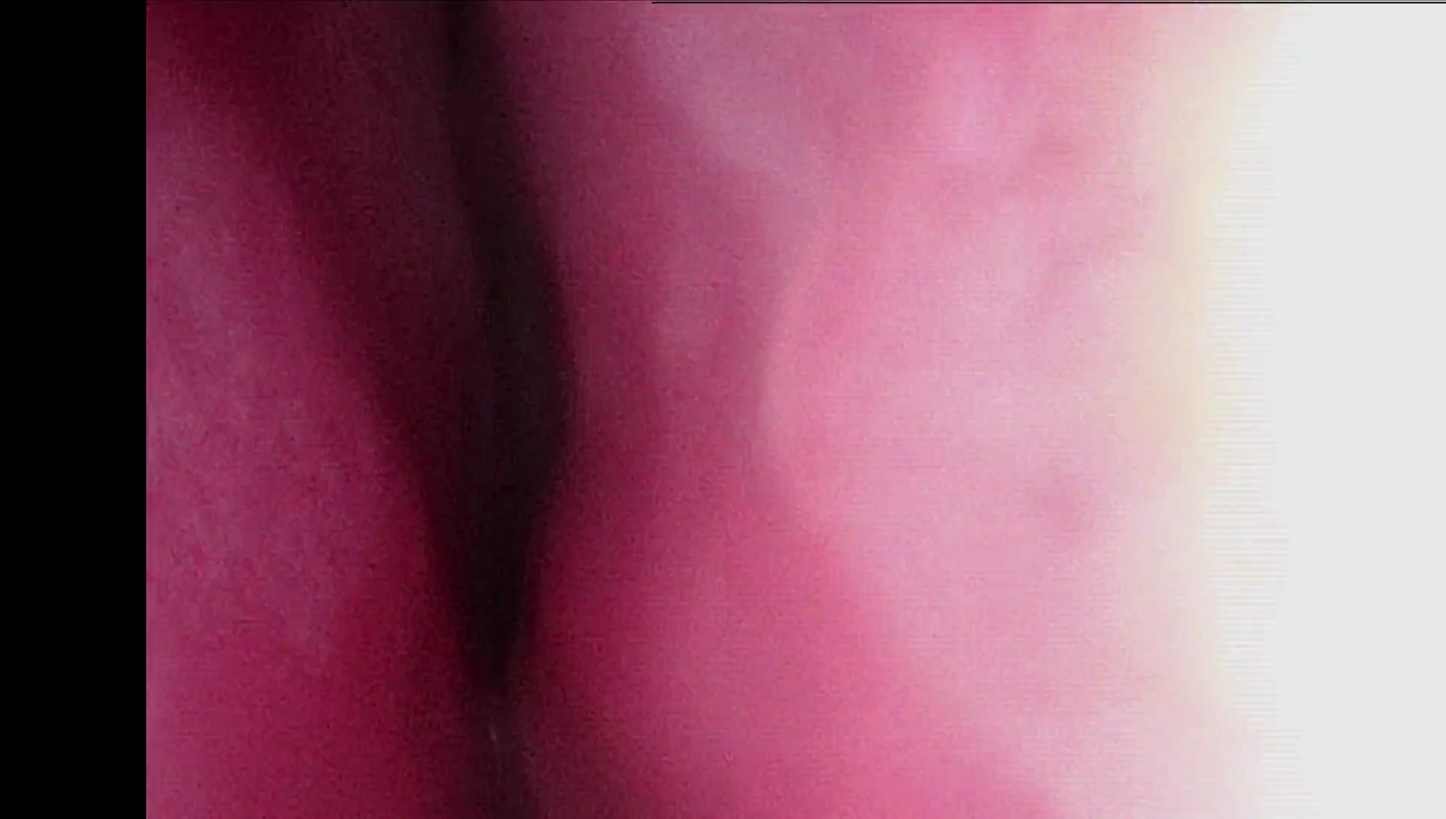close_wall: (646, 10, 1446, 819)
next: (417, 299, 602, 708)
